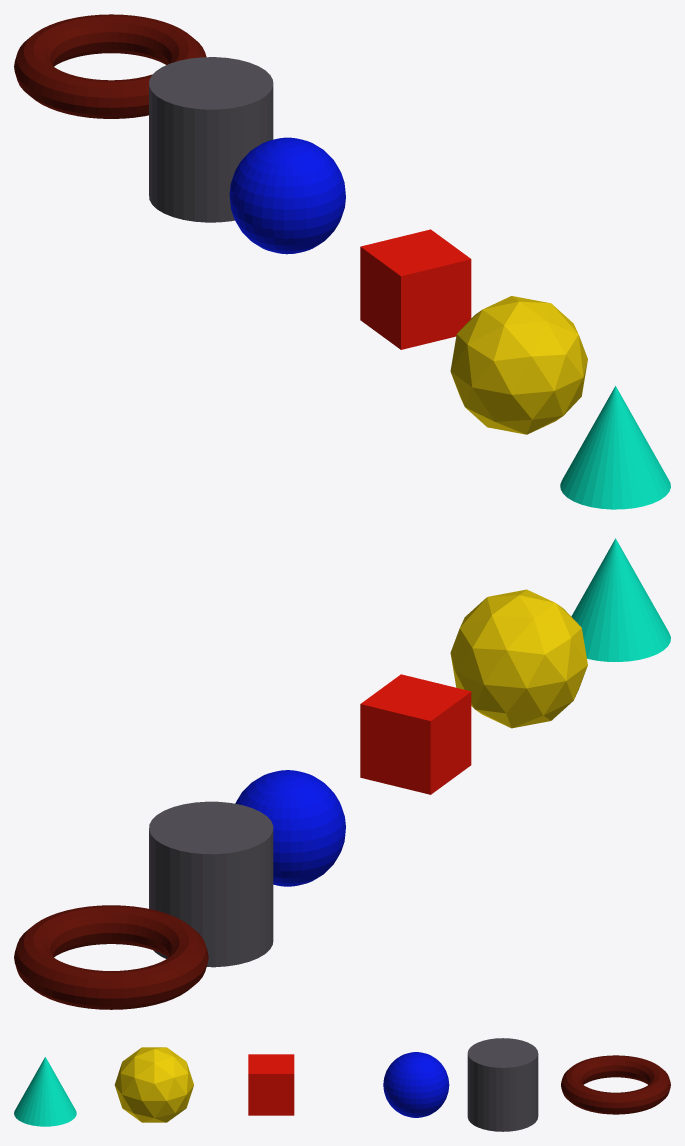
File: groceries.fbx
3 renders of one model, top to bottom at view 1: azimuth 30°, elevation 25°; view 2: azimuth 150°, elevation 25°; view 3: azimuth 270°, elevation 25°, orthographic. The views are drawn at different scales.
Parts seen in each view (by area): view 1: Cylinder, Icosphere, Torus, Cube, Sphere, Cone; view 2: Cylinder, Icosphere, Torus, Cube, Sphere, Cone; view 3: Cylinder, Icosphere, Torus, Sphere, Cube, Cone.
Boxes of the visible parts, x1,y1,x2,y2 form: Cylinder: (149, 57, 273, 222); Icosphere: (450, 296, 587, 434); Torus: (14, 14, 206, 118); Cube: (360, 229, 471, 349); Sphere: (229, 137, 345, 254); Cone: (560, 386, 670, 509); Cylinder: (149, 801, 273, 967); Icosphere: (450, 589, 587, 728); Torus: (14, 905, 208, 1009); Cube: (360, 674, 471, 794); Sphere: (235, 770, 345, 886); Cone: (571, 538, 670, 661); Cylinder: (467, 1038, 538, 1131); Icosphere: (114, 1047, 193, 1122); Torus: (561, 1055, 670, 1114); Sphere: (383, 1052, 449, 1117); Cube: (248, 1054, 294, 1115); Cone: (14, 1057, 76, 1126).
Bounding box in the file's own units: 103 × 74.38 × 614.
